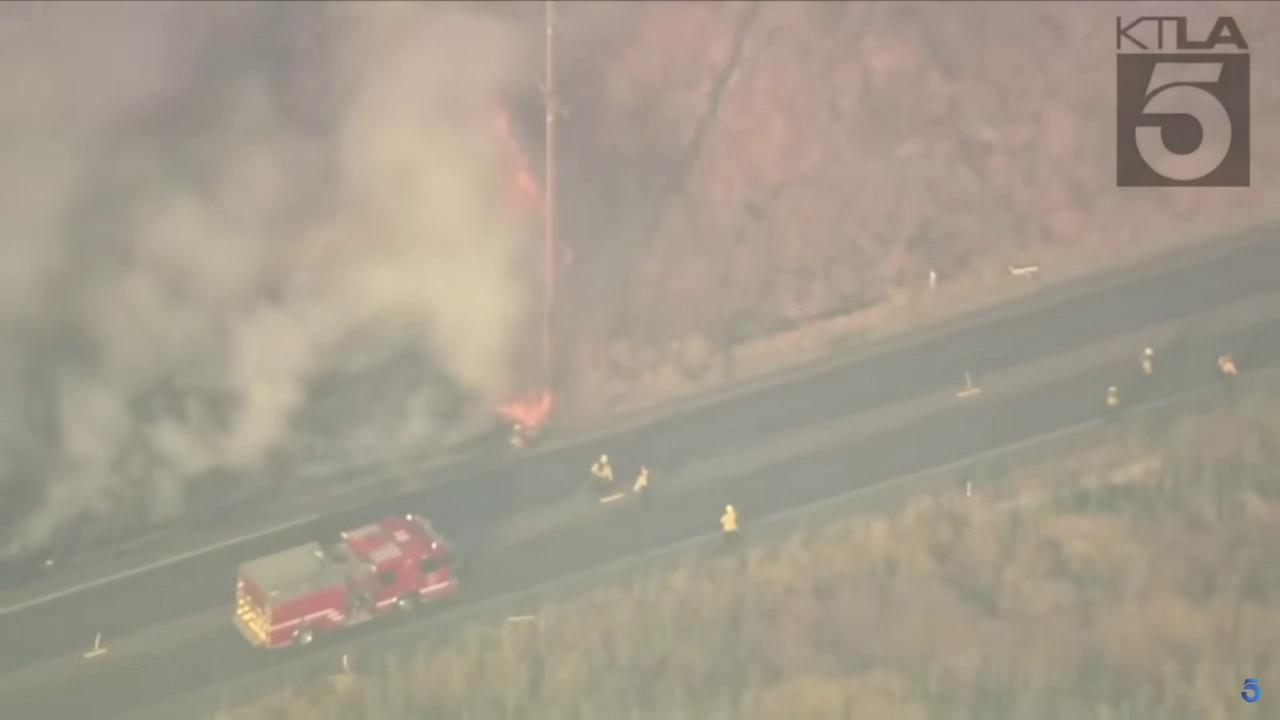fire: (495, 104, 545, 205), (493, 389, 553, 428)
smoke: (0, 0, 545, 517)
